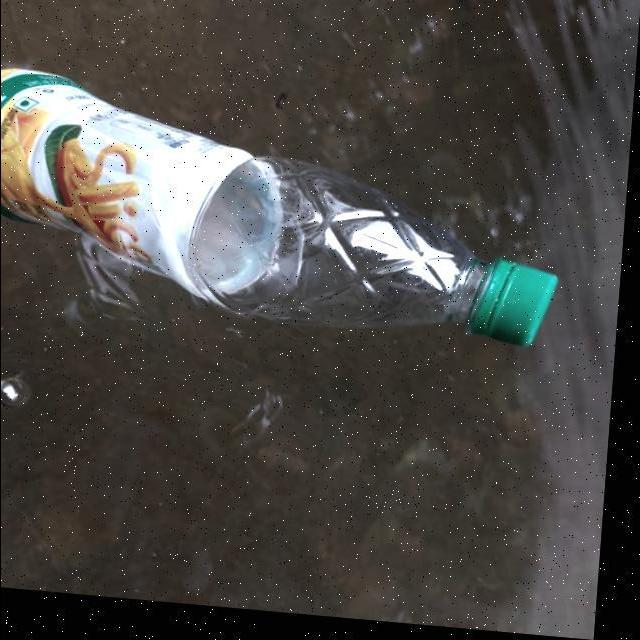Bottle: (0, 50, 571, 359)
